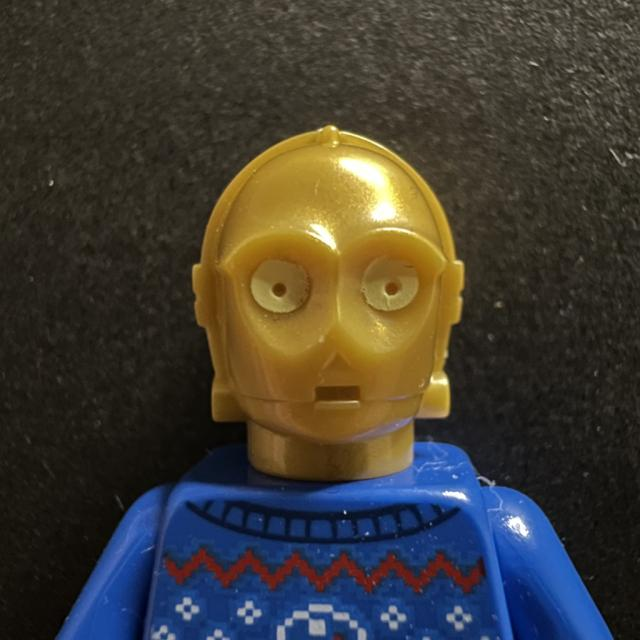robot: (172, 101, 468, 480)
